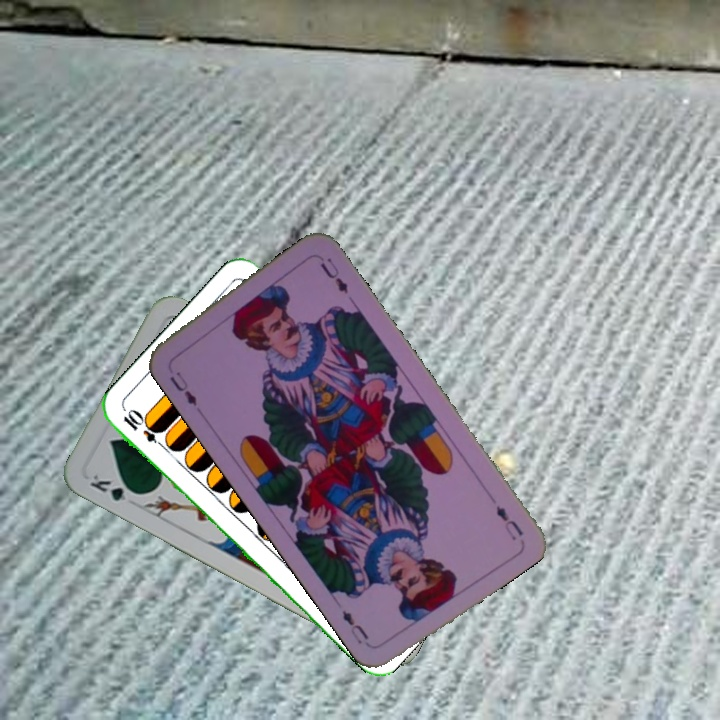E10: (119, 406, 170, 452)
EU: (491, 500, 526, 543), (165, 367, 200, 408)
GK: (85, 470, 143, 504)
